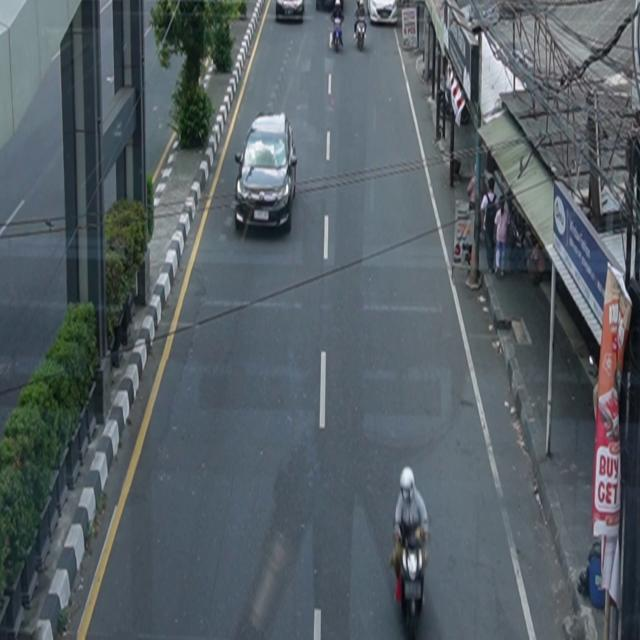car: (235, 112, 298, 233), (275, 1, 305, 22)
